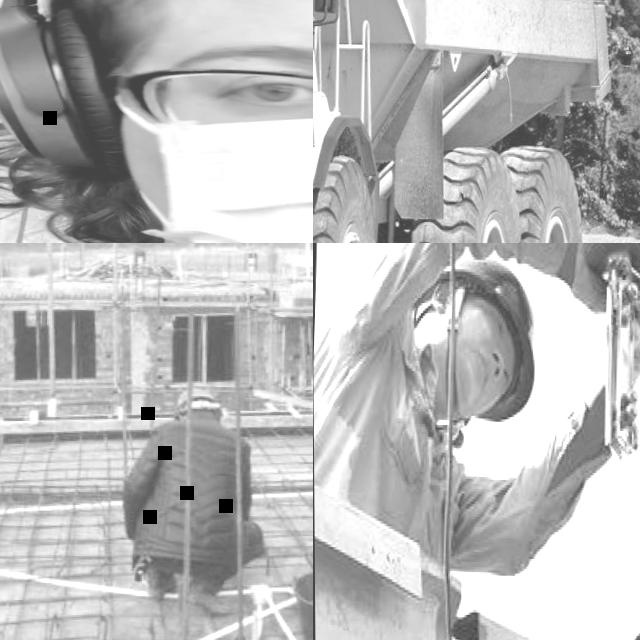Hardhat: (426, 251, 540, 422), (172, 386, 223, 418)
Mask: (99, 110, 313, 243)
NO-Mask: (442, 317, 492, 412)
NO-Safety Vest: (313, 331, 461, 561), (138, 418, 249, 559)
Person: (313, 243, 640, 581), (0, 0, 313, 243), (116, 378, 270, 618)
machinery: (313, 0, 619, 243)
